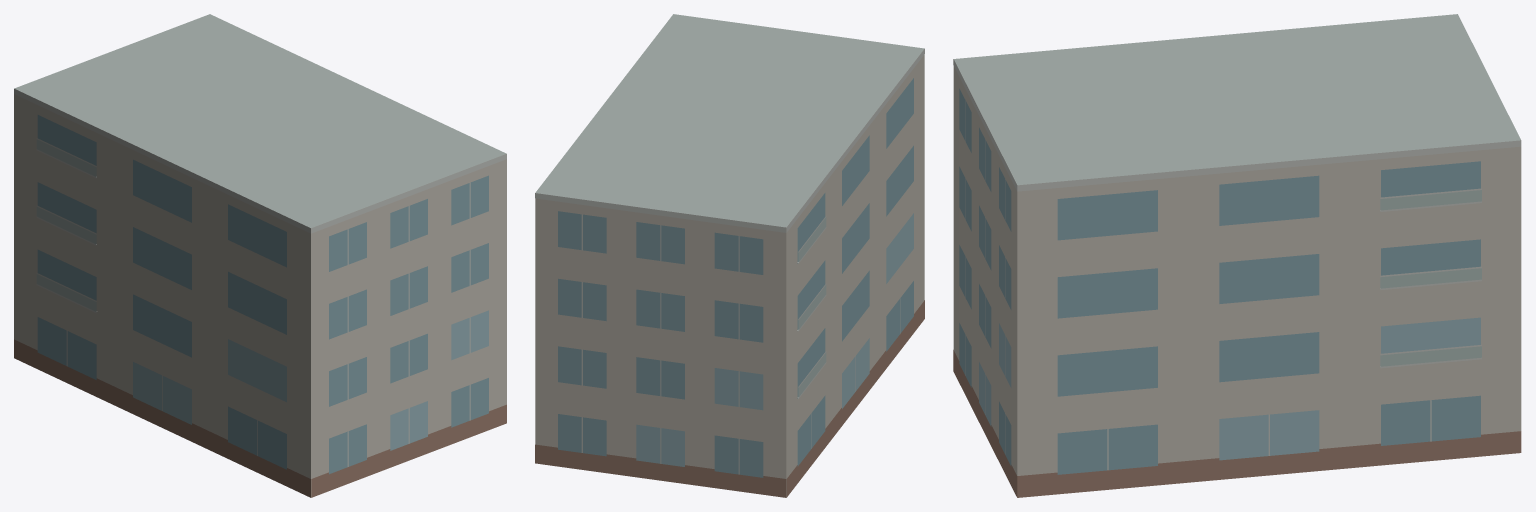
Rendered from survey-upis-32713643.glb.
3 renders of one model, left to right at view 1: azimuth 30°, elevation 25°; view 2: azimuth 150°, elevation 25°; view 3: azimuth 270°, elevation 25°, orthographic. The views are drawn at different scales.
Visible parts, largest first — view 1: survey-upis-32713643.tmp; view 2: survey-upis-32713643.tmp; view 3: survey-upis-32713643.tmp.
Part boxes in pixels (x1,y1,x2,y2): survey-upis-32713643.tmp: (14,14,506,497); survey-upis-32713643.tmp: (535,14,924,497); survey-upis-32713643.tmp: (953,14,1521,497).
Size of the model in its own units: 14.35 by 12.2 by 20.09.
